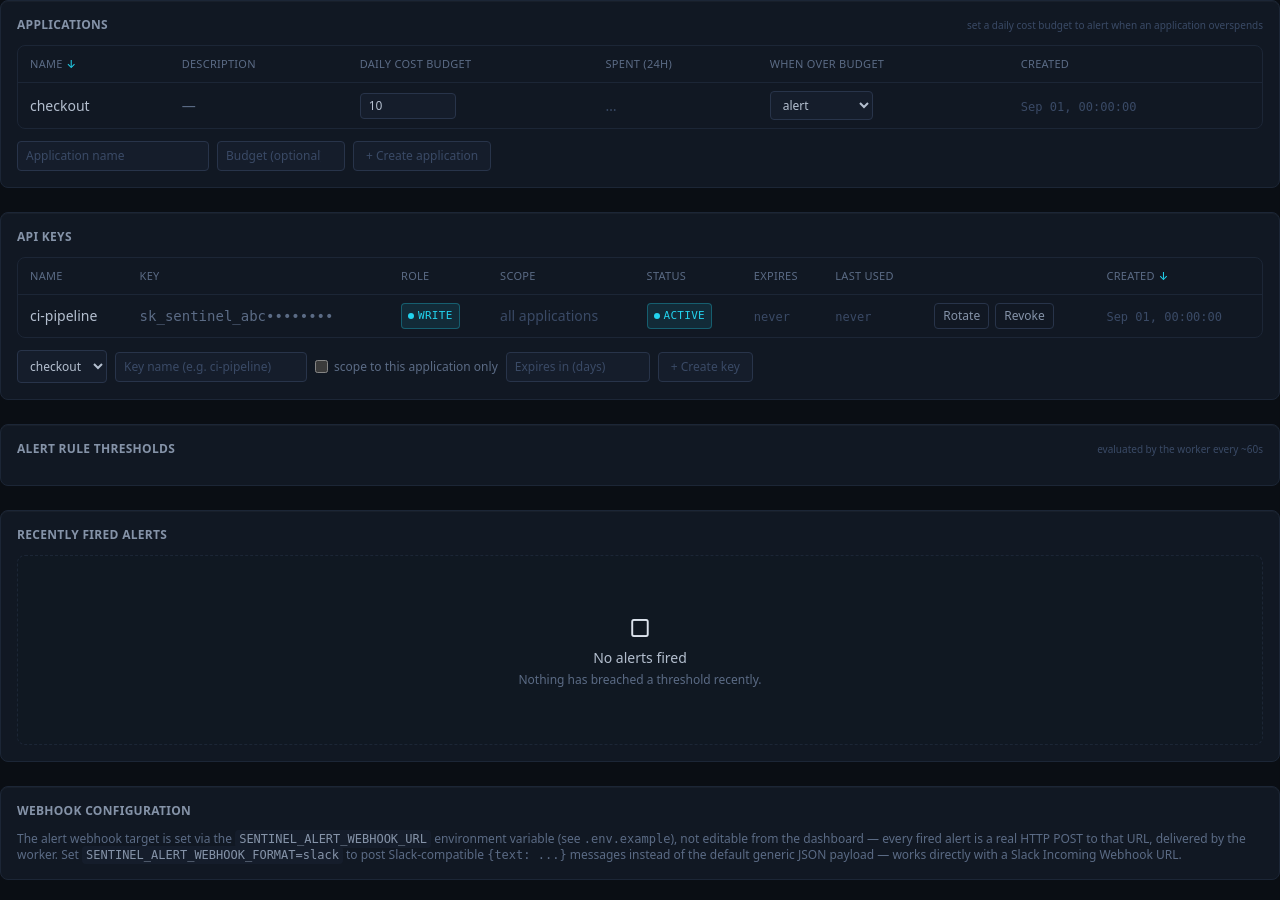
Settings — budget enforcement › reports a failed change instead of failing silently
Select "downgrade" in the dropdown named "Over-budget action for checkout". click: (821, 106)
box: x1=770 y1=91 x2=873 y2=120
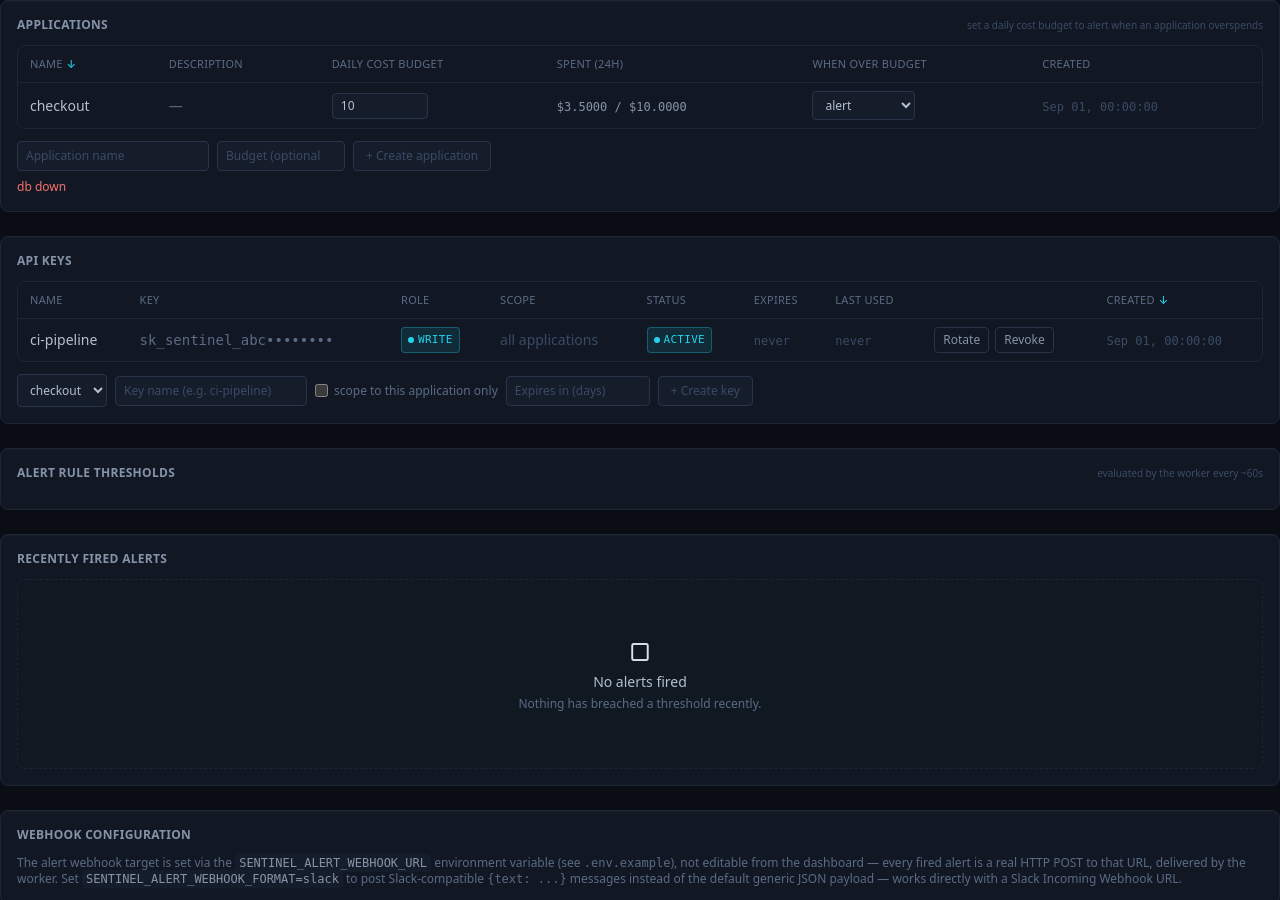
Check: the text "db down" is shown, box x1=17 y1=178 x2=66 y2=195
